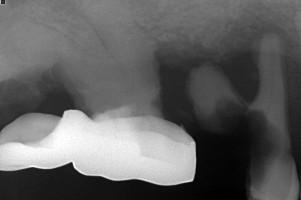Dental Caries: (157, 0, 301, 104)
